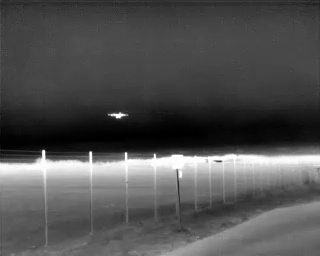AIRPLANE: (106, 109, 130, 122)
